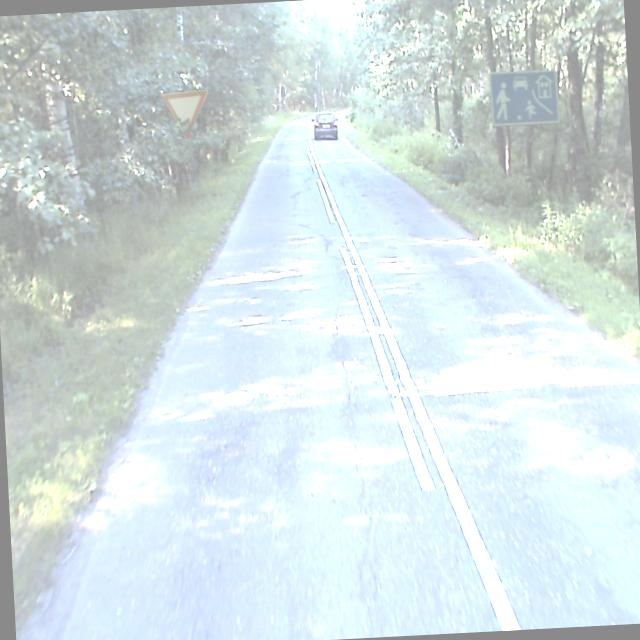road: (58, 117, 640, 640), (333, 110, 351, 117)
